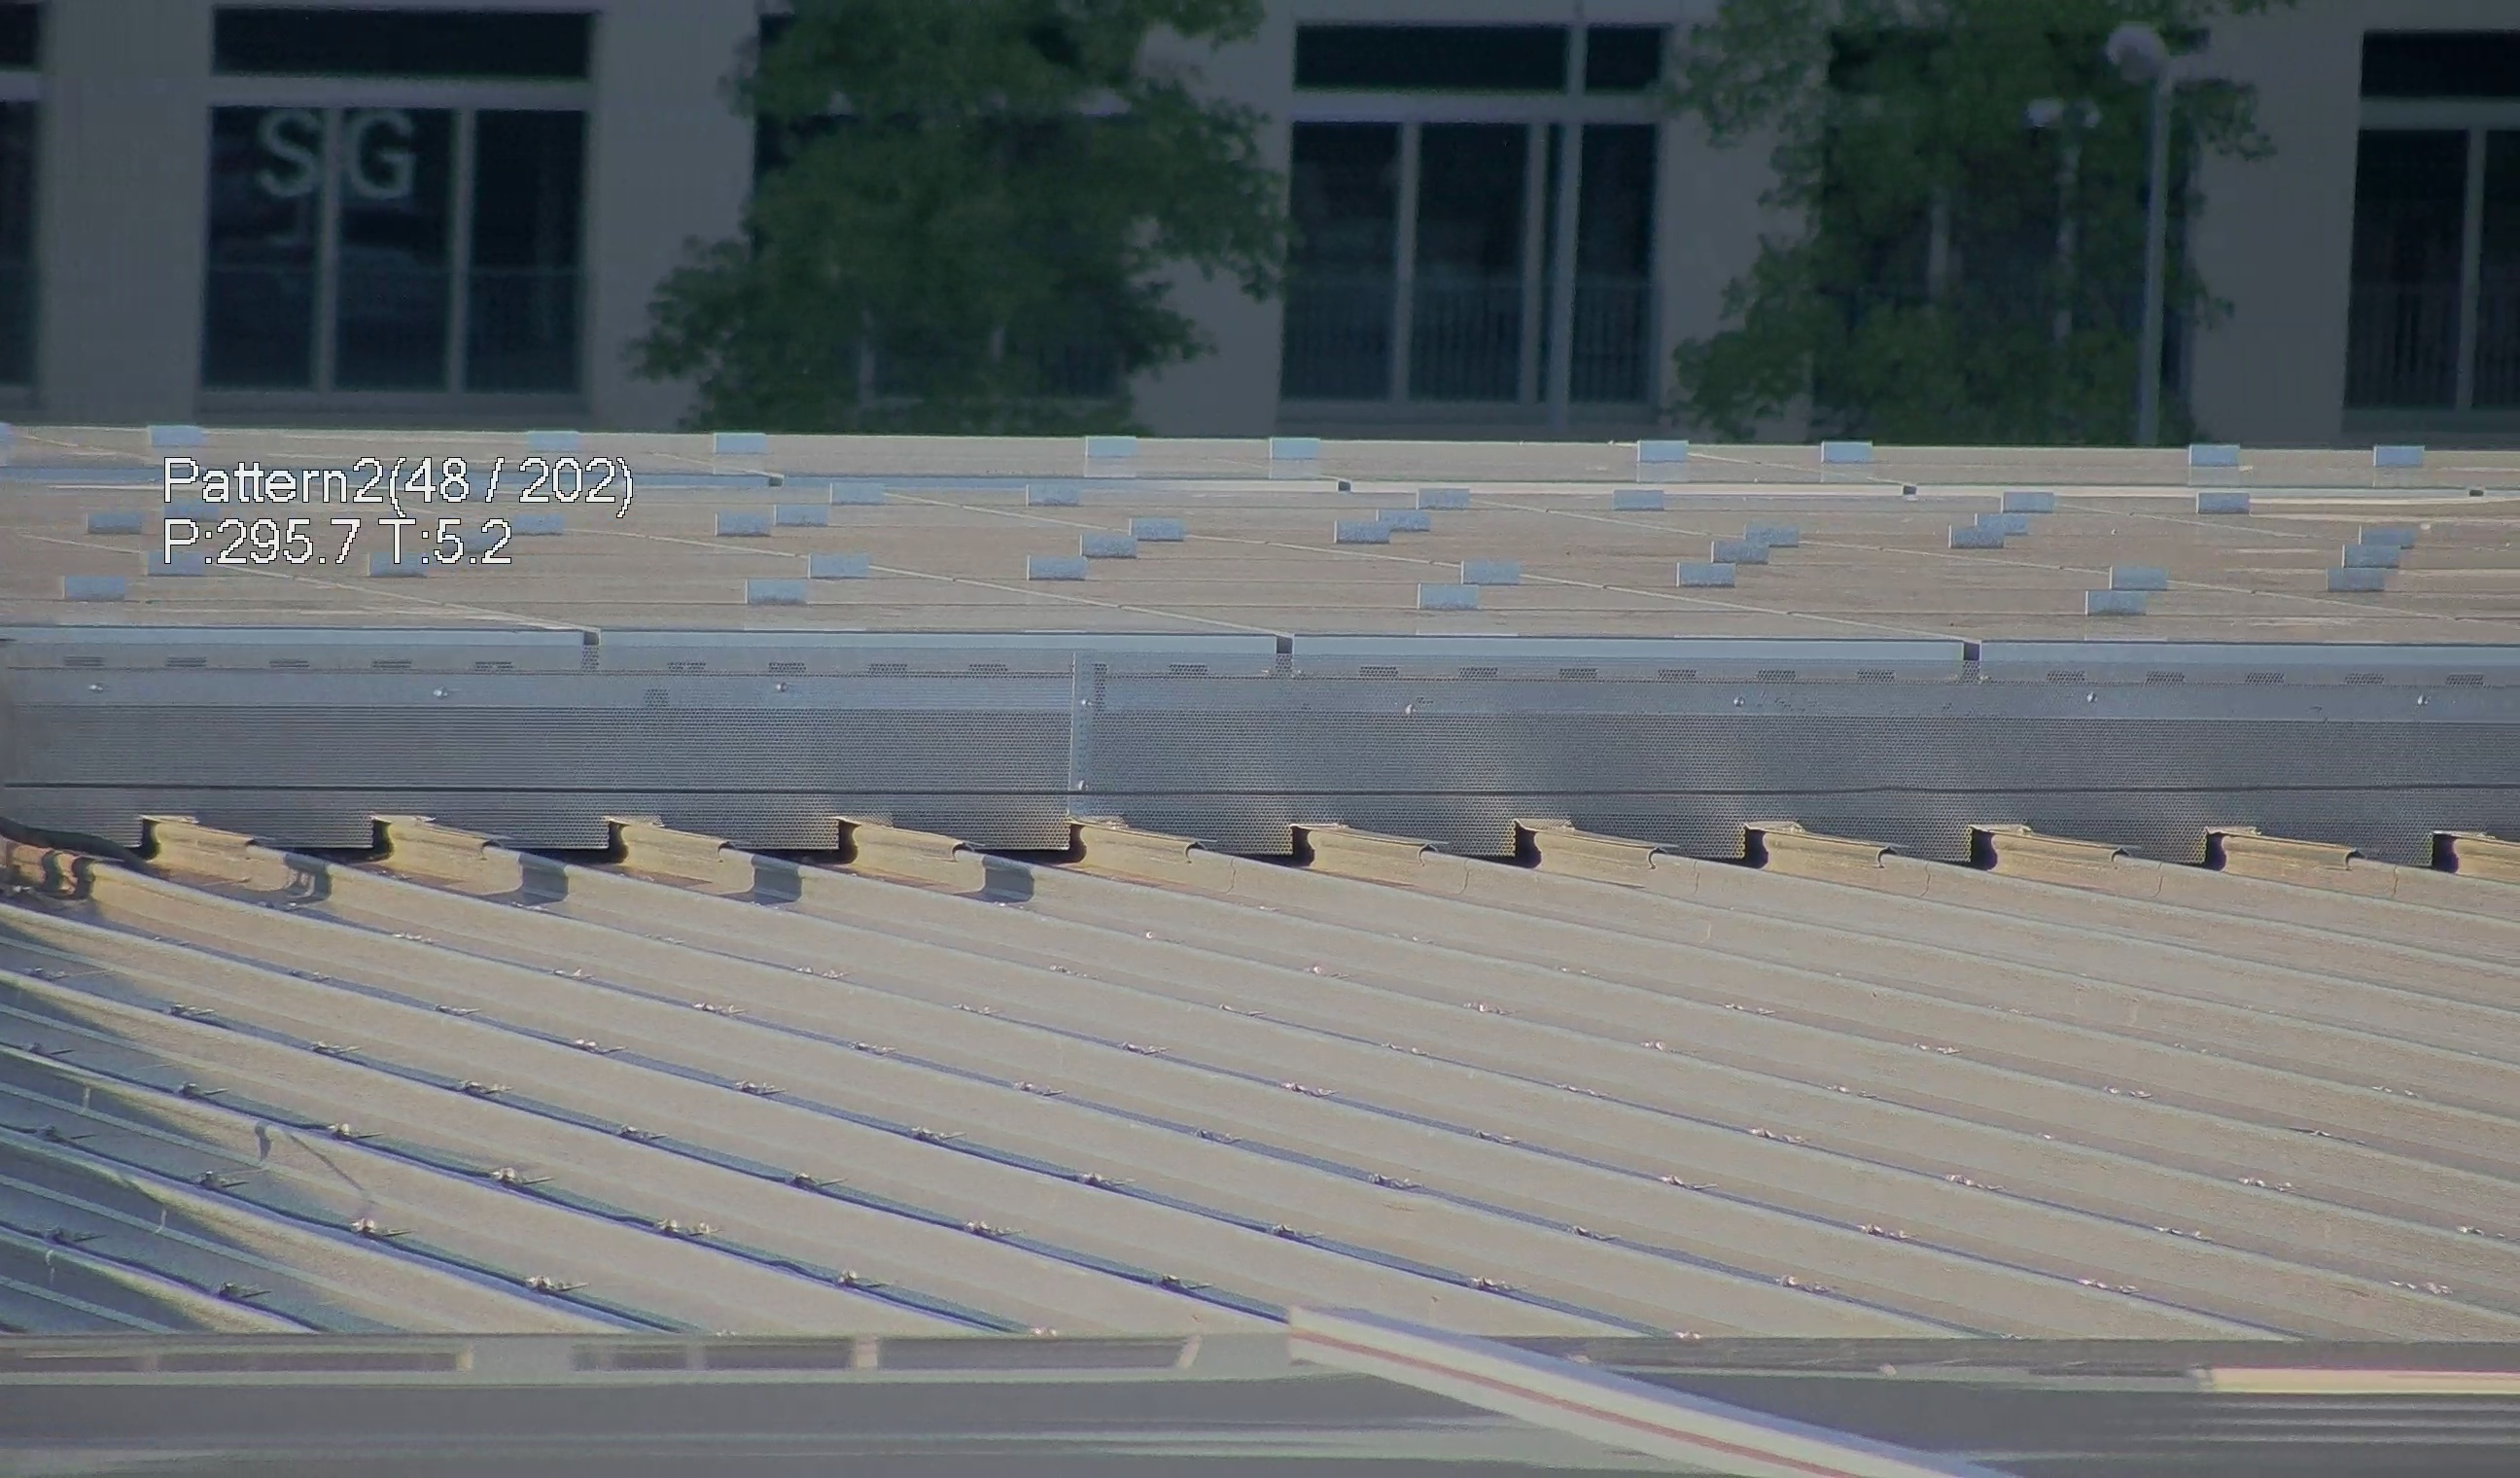Other: (1491, 811, 1544, 874)
